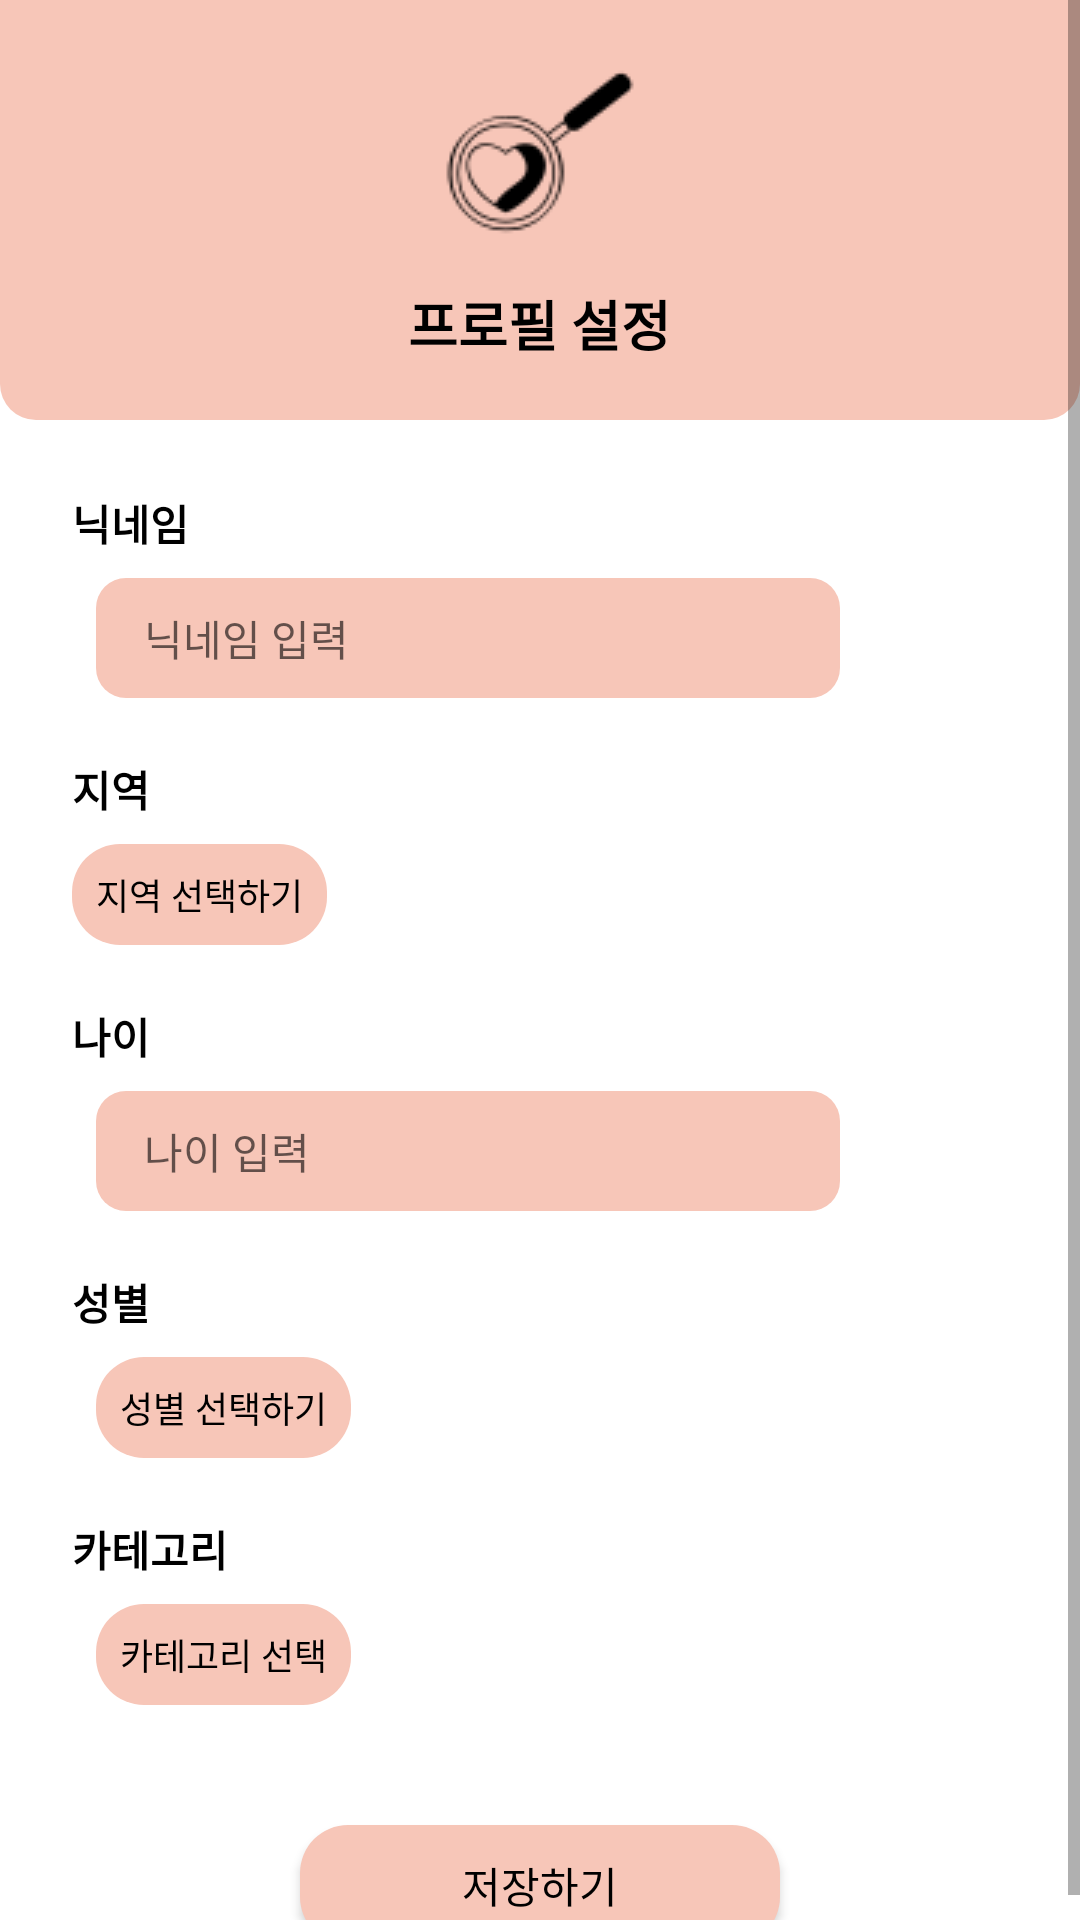

Icon bounding boxes for this 1080*1920 phone screenshot, format (x1, y1, x2, y2):
app icon: (446, 73, 634, 232)
